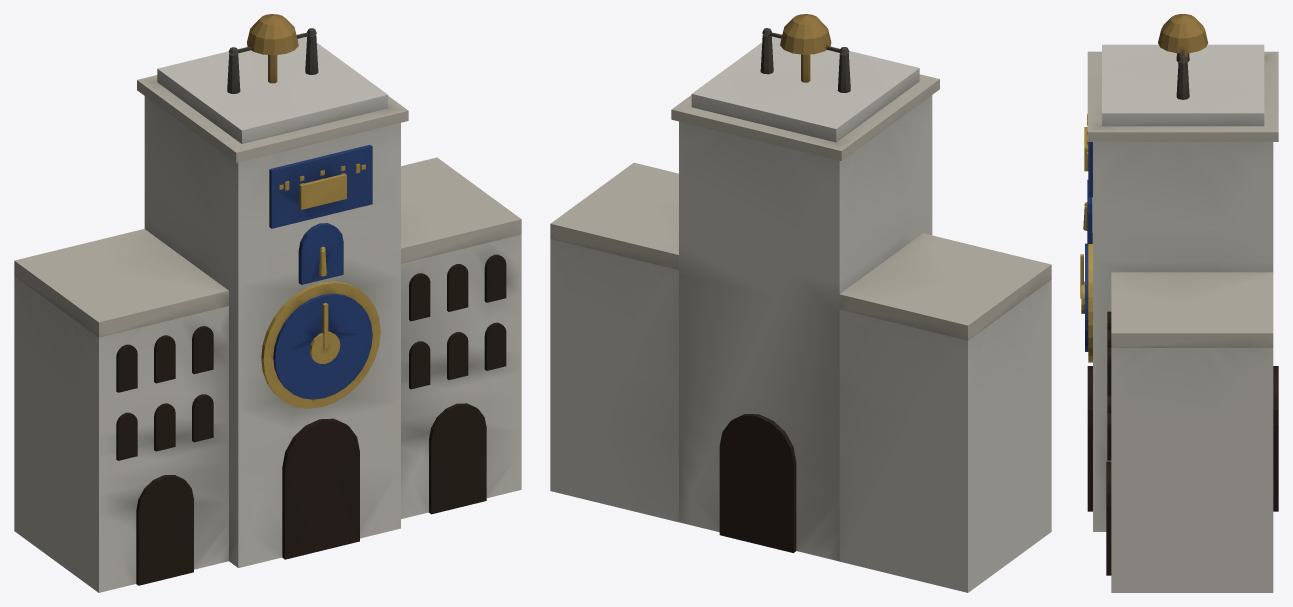
The model's file is torre-orologio.glb.
3 views of the same model, side by side, from view 1: azimuth 30°, elevation 25°; view 2: azimuth 150°, elevation 25°; view 3: azimuth 270°, elevation 25° (orthographic). The views are drawn at different scales.
Visible parts, largest first — view 1: p1_wings, p0_tower, p2_moors; view 2: p1_wings, p0_tower, p2_moors; view 3: p1_wings, p0_tower, p2_moors.
Part boxes in pixels (x1=…): p1_wings: x1=14, y1=157, x2=521, y2=592; p0_tower: x1=137, y1=75, x2=408, y2=567; p2_moors: x1=157, y1=14, x2=388, y2=143; p1_wings: x1=550, y1=162, x2=1051, y2=592; p0_tower: x1=671, y1=74, x2=939, y2=561; p2_moors: x1=691, y1=14, x2=919, y2=142; p1_wings: x1=1106, y1=272, x2=1273, y2=592; p0_tower: x1=1080, y1=51, x2=1278, y2=531; p2_moors: x1=1102, y1=14, x2=1264, y2=126.
Bounding box in the file's own units: 26 × 29.29 × 11.
